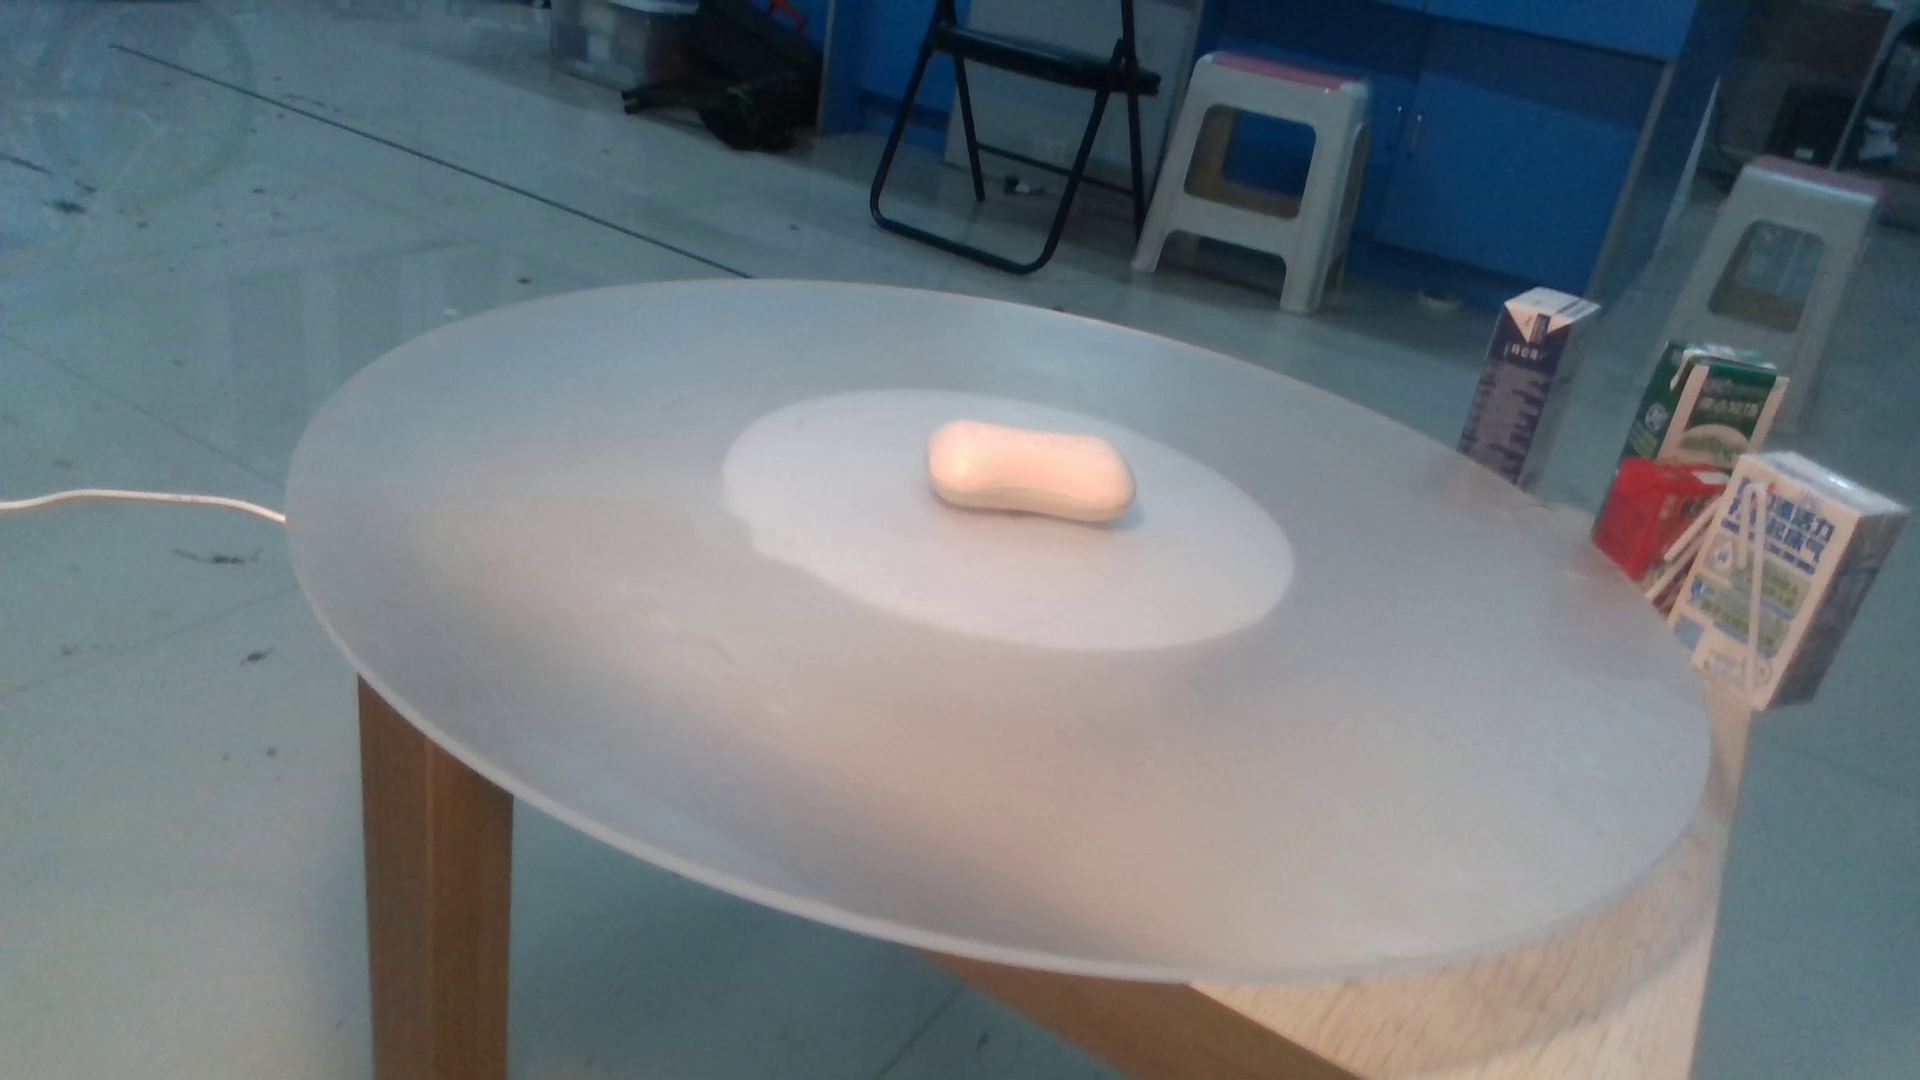CA003_1: (919, 400, 1163, 549)
